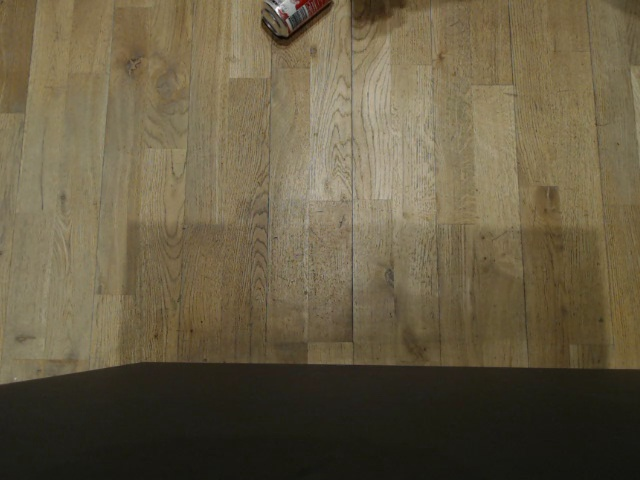cola: (256, 0, 311, 35)
